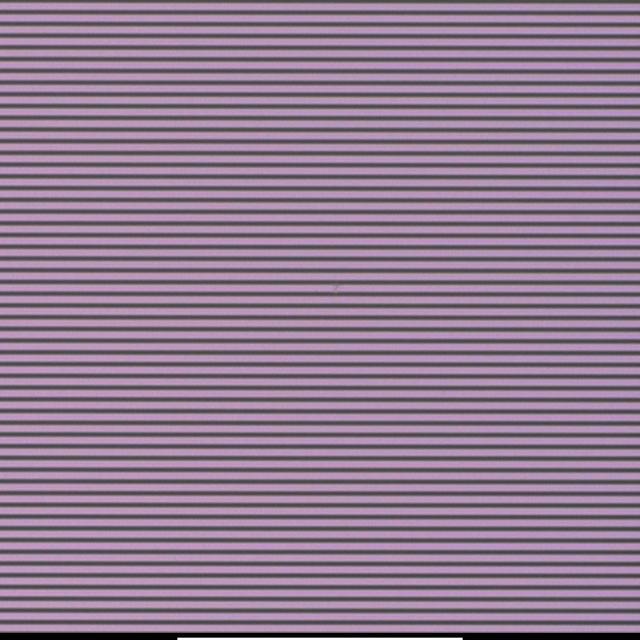nonvisual: (328, 280, 345, 295)
